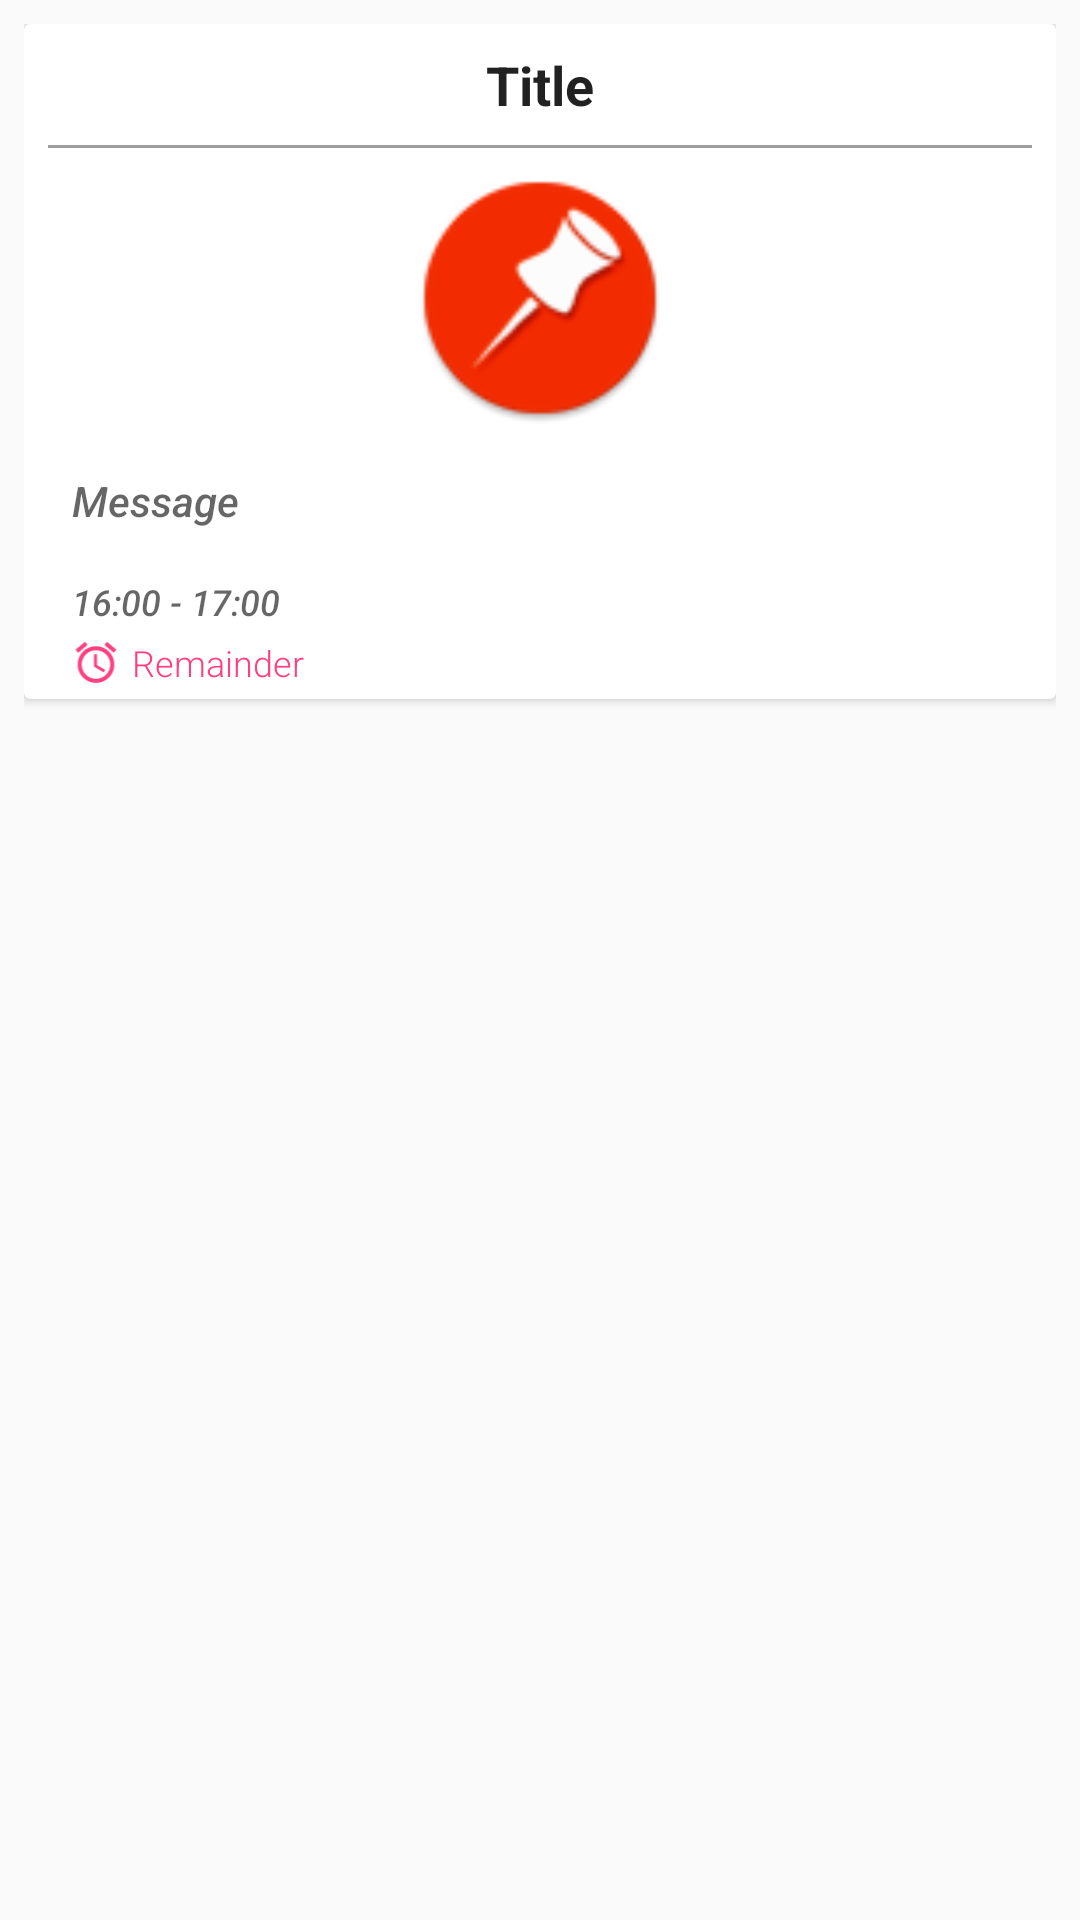

Where icons sit on this 1080w x 1920h app screen, as Rect(x1, y1, x2, y2):
alarm: Rect(75, 642, 117, 683)
